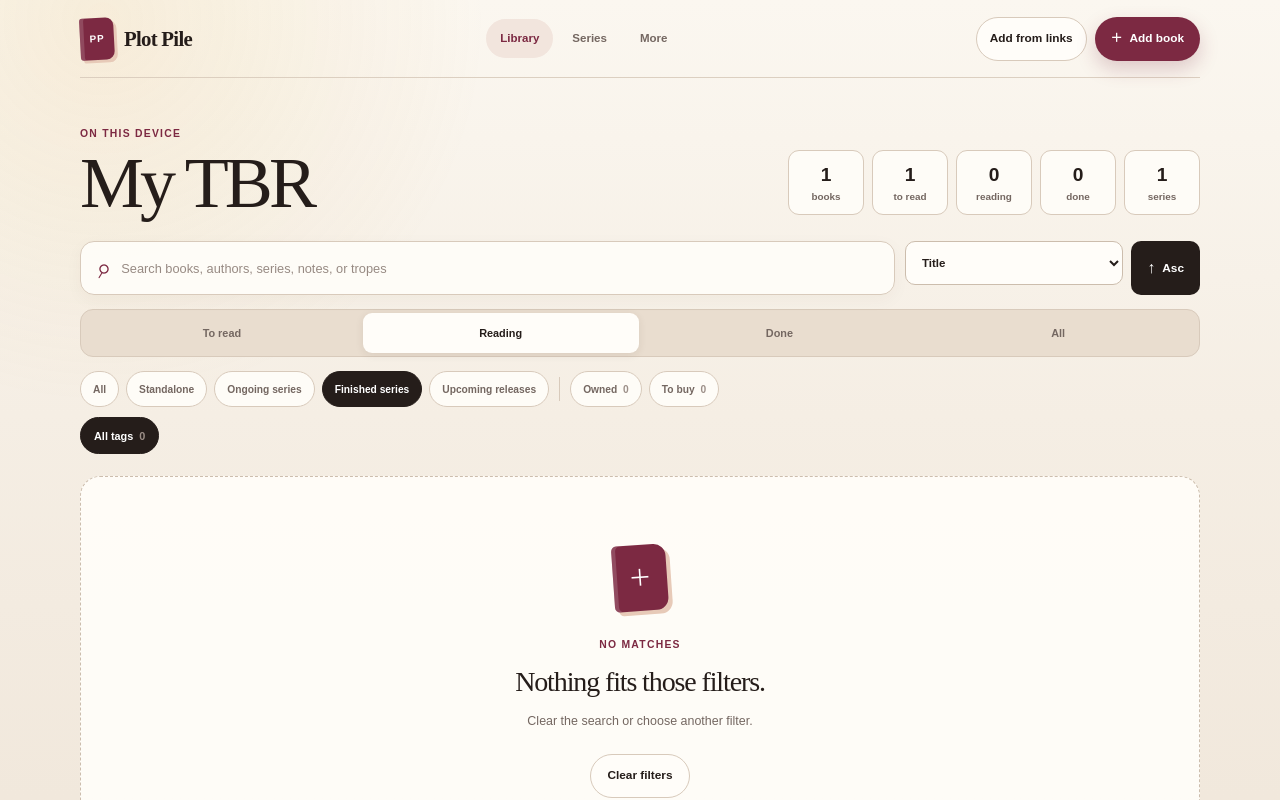
Test: Plot Pile behavior › restores valid library and series view preferences without persisting search or tags
This screenshot has width=1280, height=800.
Check: the heading "My TBR" is shown, box [80,151,313,215]
Check: the dropdown named "Sort books by" shows "Title", box [905,241,1123,285]
Click the button "Series".
click(590, 38)  # box [558,19,621,58]
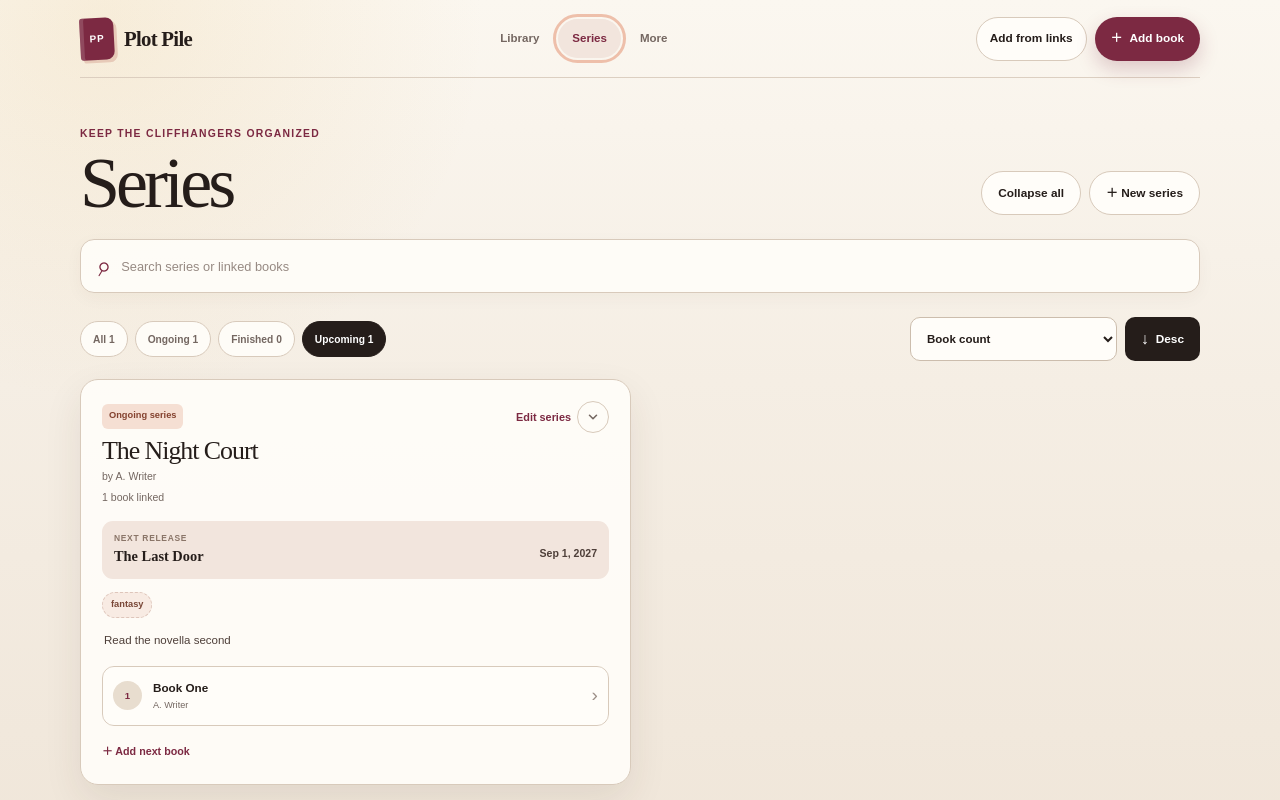
Check: the search field named "Search series and linked books" is empty, box [121,240,1184,292]
Check: the dropdown named "Sort series by" shows "Book count", box [910,317,1117,361]
